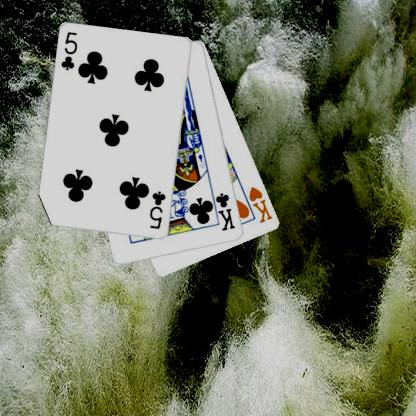5C: (58, 30, 79, 72), (147, 189, 167, 231)
KC: (209, 189, 236, 232)
KH: (247, 184, 274, 224)
